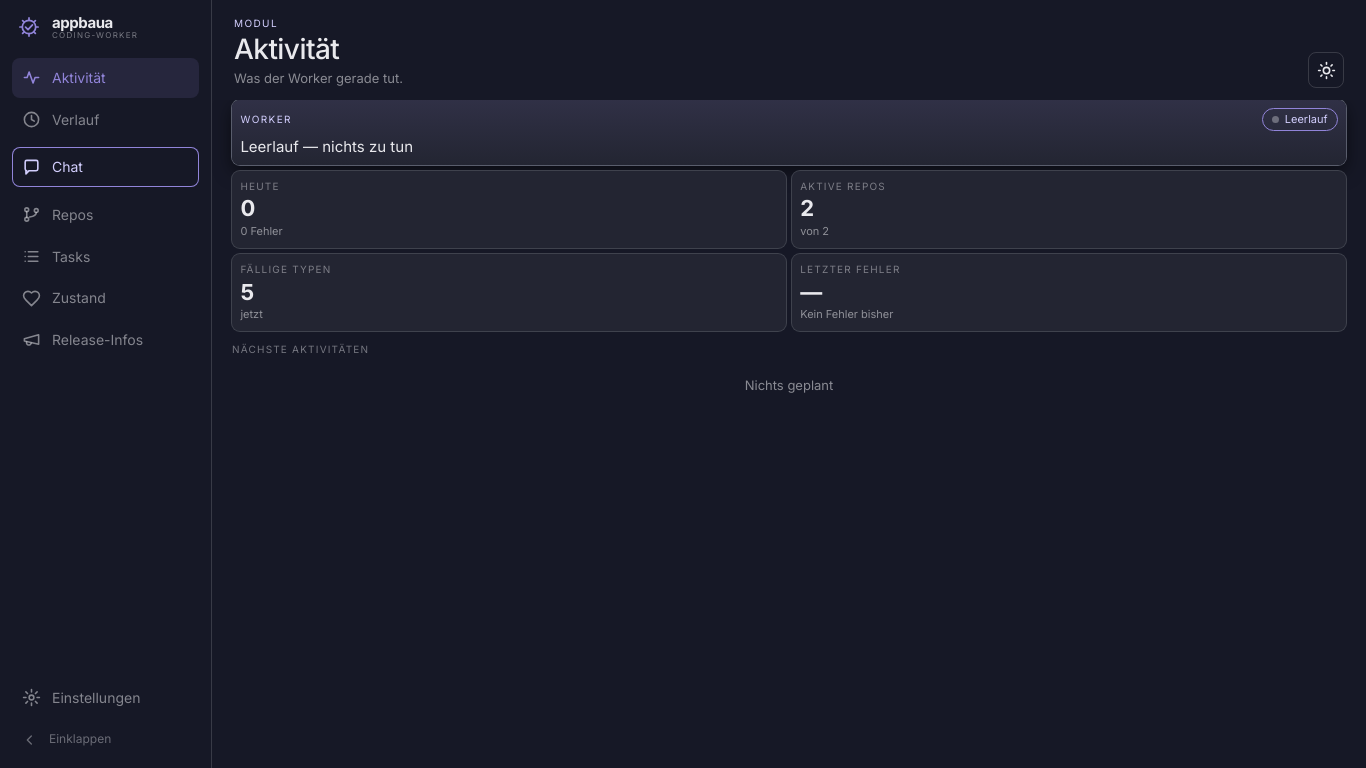
Test case: Repo-Verwaltung — Auf appbaua umstellen (req-012) › AC: die Meldung nennt die Anzahlen und den Ziel-Branch
expect the text "Leerlauf — nichts zu tun" is shown: met, box [240, 137, 413, 156]
Click the button "Repos": [106, 215] box [12, 195, 199, 235]
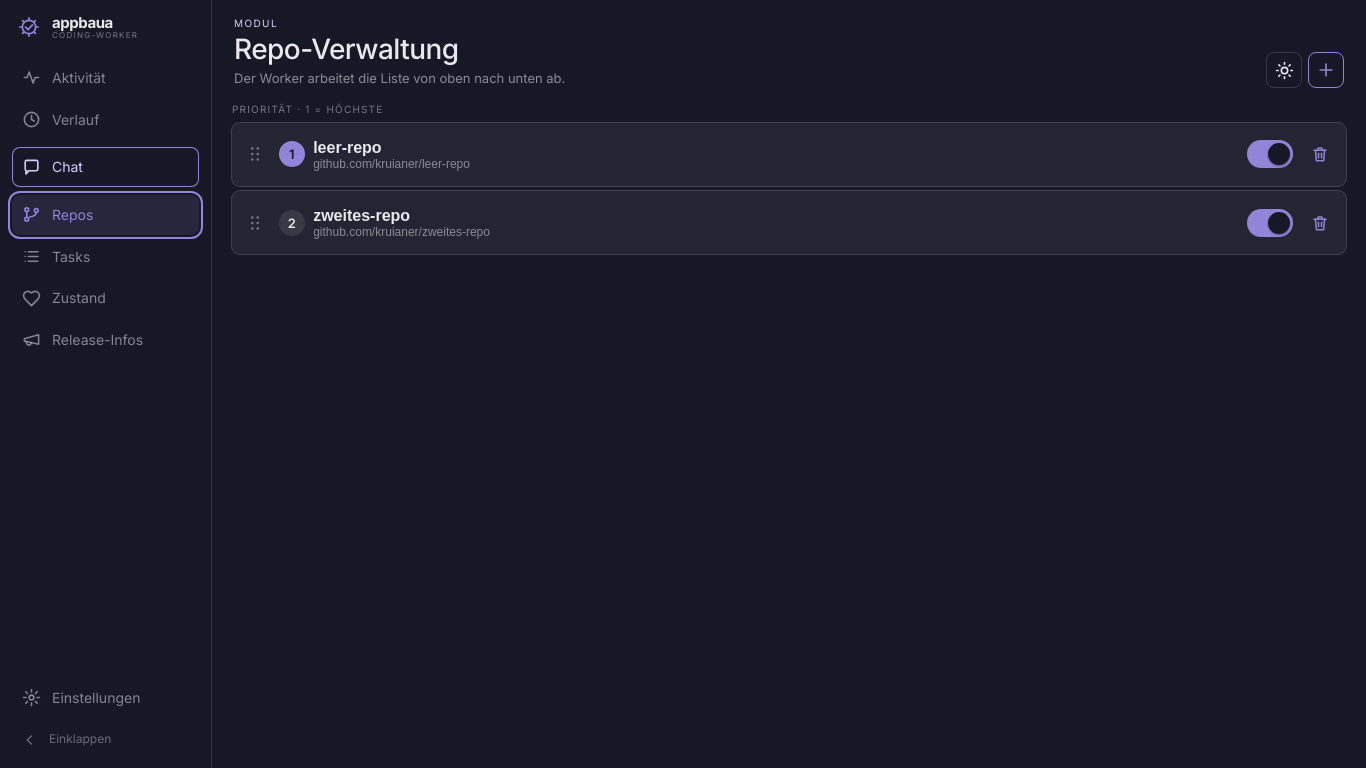
Click the button "leer-repo github.com/kruianer/leer-repo": [347, 147] box [313, 138, 1239, 171]
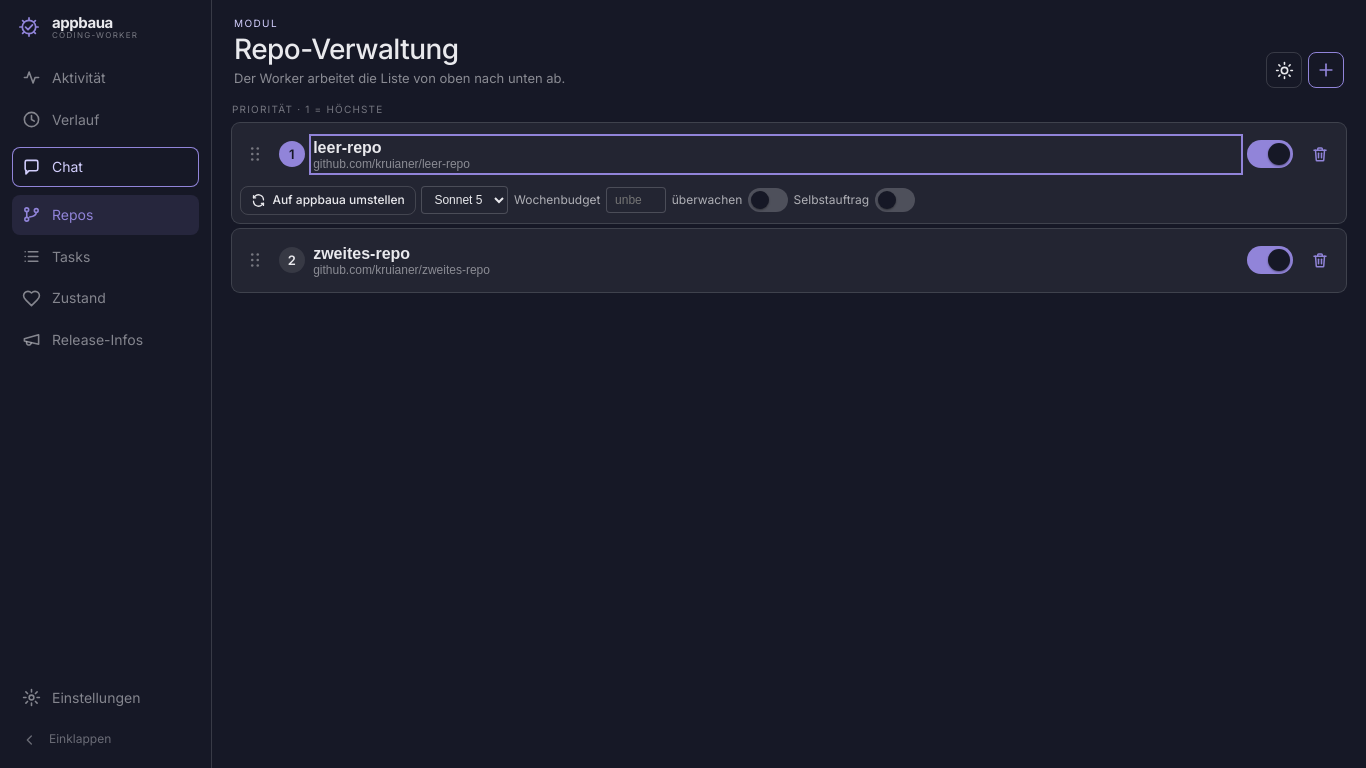
Click the button "Auf appbaua umstellen": [328, 200] box [240, 186, 416, 215]
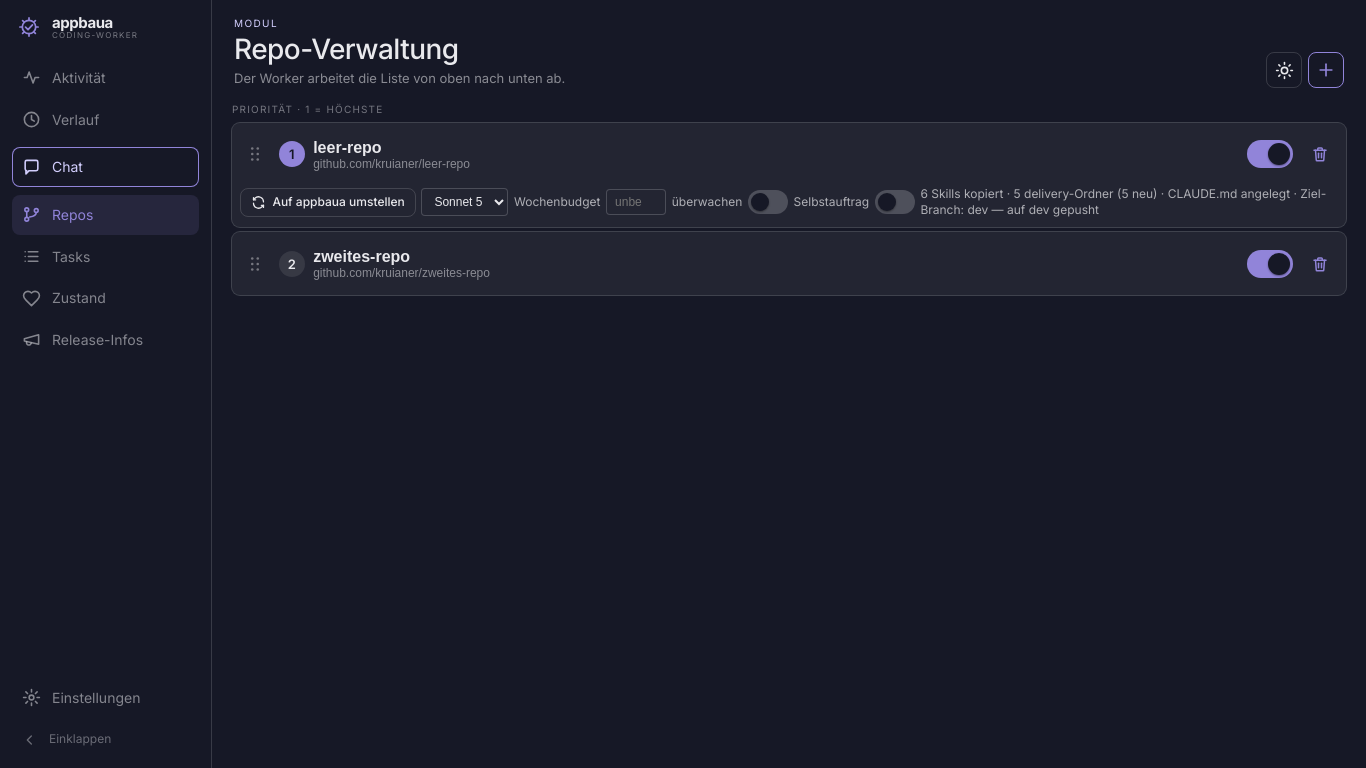
expect the message shows "6 Skills kopiert": met, box [920, 186, 1326, 217]
expect the message shows "5 delivery-Ordner": met, box [920, 186, 1326, 217]
expect the message shows "Ziel-Branch: dev": met, box [920, 186, 1326, 217]
